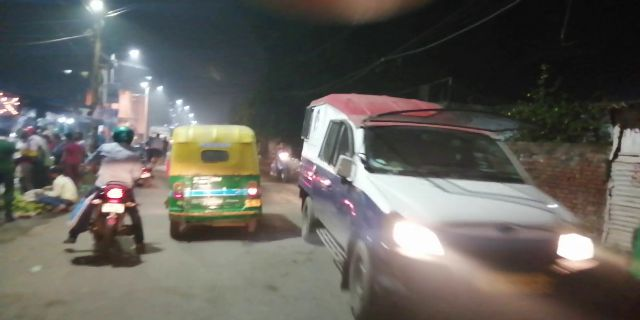Autorickshaw: (166, 126, 266, 237)
Motorbike: (86, 127, 141, 264)
Van: (289, 89, 595, 318)
